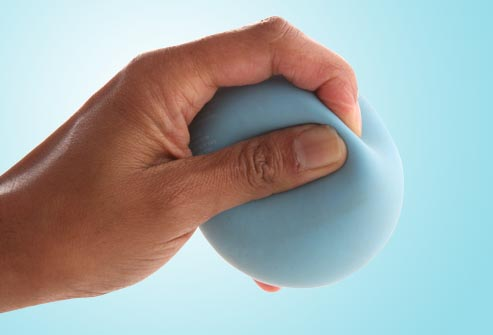finger: (162, 26, 364, 137)
